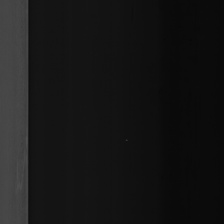silk_spot: (12, 123, 25, 198)
